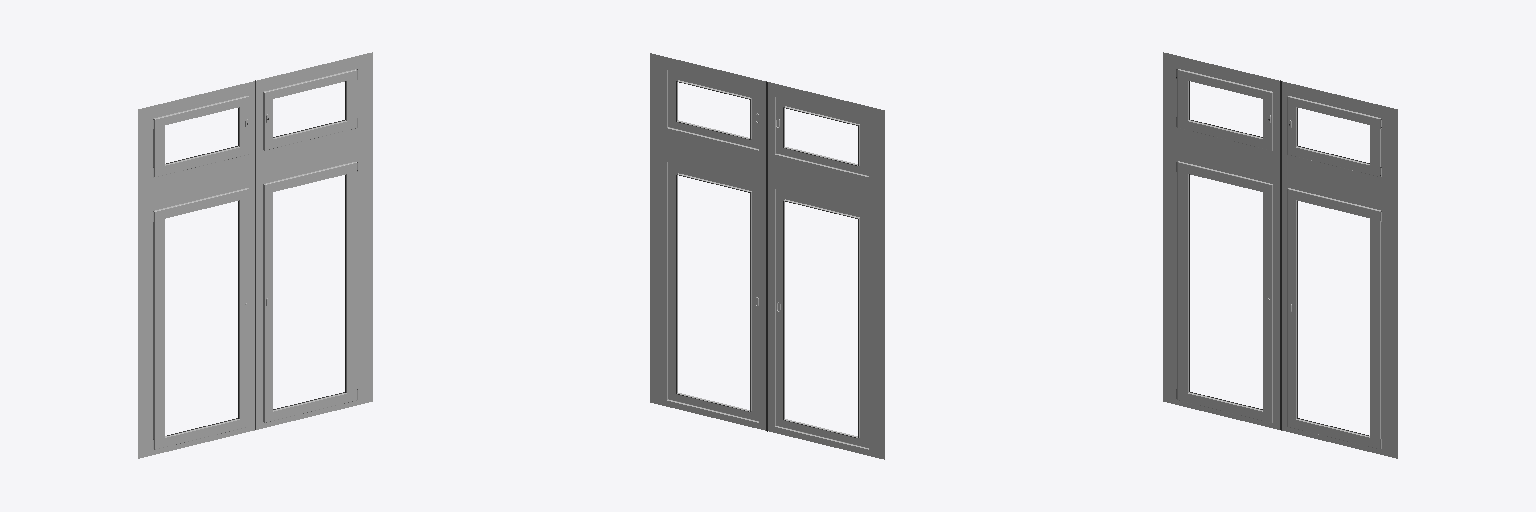
The picture shows the model from 3 angles: view 1: azimuth 30°, elevation 25°; view 2: azimuth 150°, elevation 25°; view 3: azimuth 330°, elevation 25°; orthographic projection.
Parts seen in each view (by area): view 1: SM_Window_04_46; view 2: SM_Window_04_46; view 3: SM_Window_04_46.
Boxes of the visible parts, x1=… form: SM_Window_04_46: x1=138, y1=52, x2=372, y2=458; SM_Window_04_46: x1=650, y1=53, x2=884, y2=459; SM_Window_04_46: x1=1163, y1=52, x2=1397, y2=458.
Bounding box in the file's own units: 214 × 304 × 3.85.
3 materials, 1 textured.